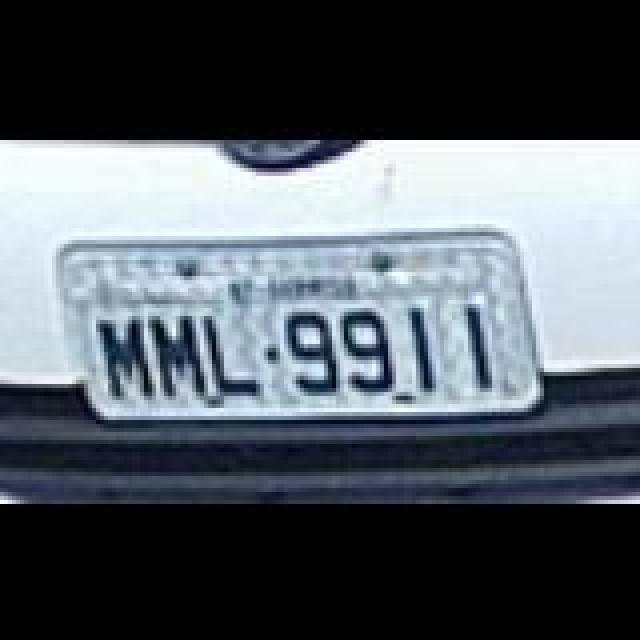1: (410, 304, 446, 392), (462, 304, 498, 392)
9: (282, 310, 342, 394), (338, 306, 398, 390)
L: (204, 310, 268, 394)
M: (96, 312, 160, 400), (150, 312, 210, 400)
